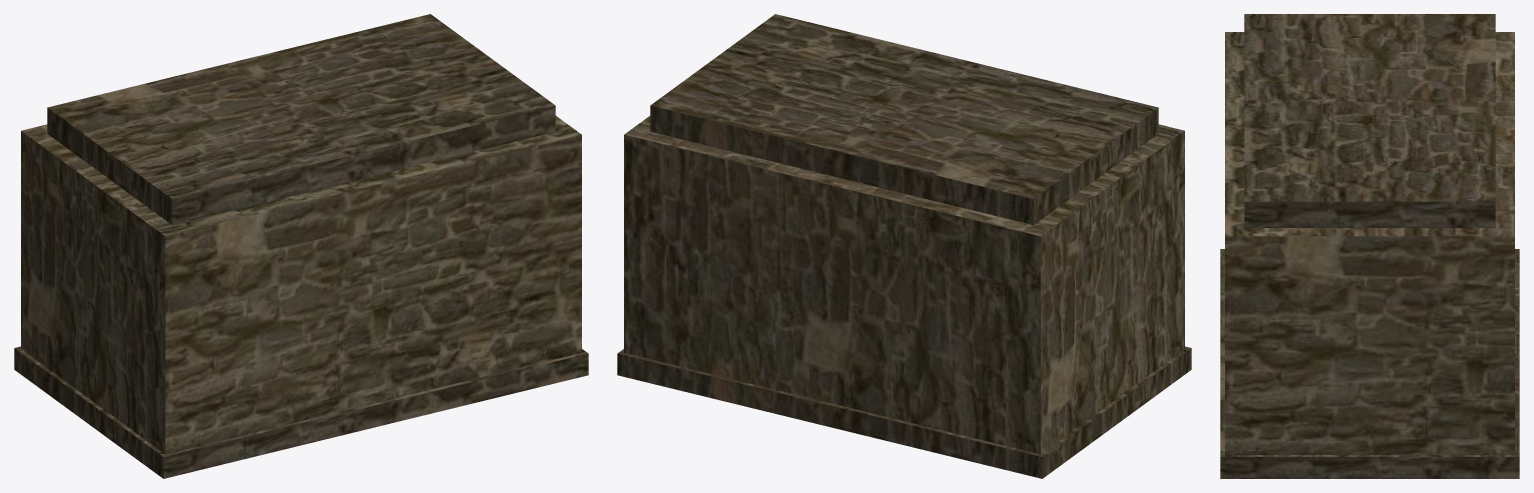
File: wall_block_01.glb
The picture shows the model from 3 angles, left to right: view 1: azimuth 30°, elevation 25°; view 2: azimuth 150°, elevation 25°; view 3: azimuth 270°, elevation 25°; orthographic projection.
Parts seen in each view (by area): view 1: wall_block_01; view 2: wall_block_01; view 3: wall_block_01.
Part boxes in pixels (x1,y1,x2,y2): wall_block_01: (14, 14, 588, 478); wall_block_01: (617, 14, 1191, 478); wall_block_01: (1220, 14, 1519, 478).
Size of the model in its own units: 1.02 by 0.6101 by 0.62.
Materials: 2 (2 with a texture image).
